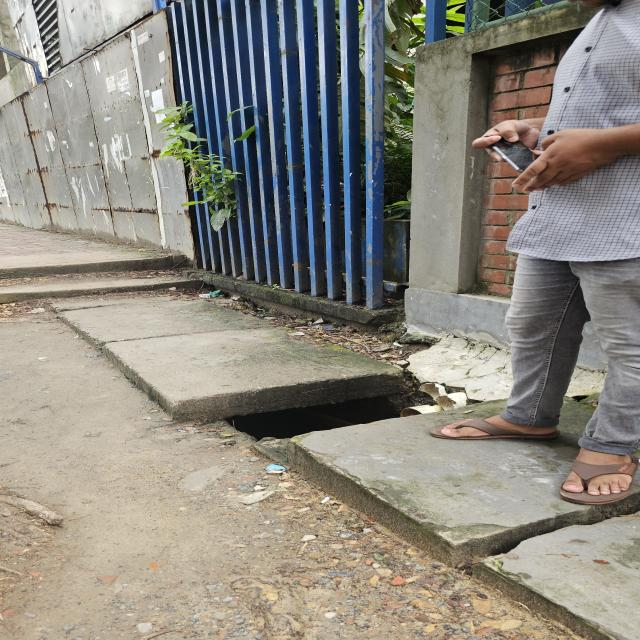drain_inlet: (173, 367, 504, 444)
